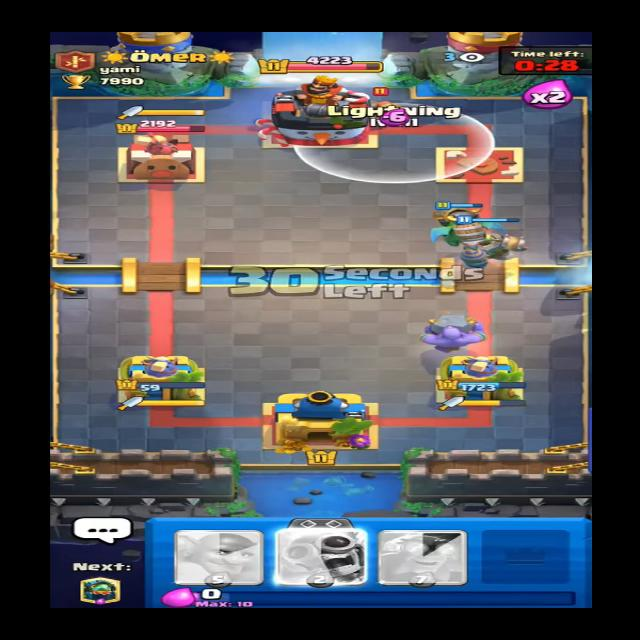Wizard: (356, 91, 418, 125)
